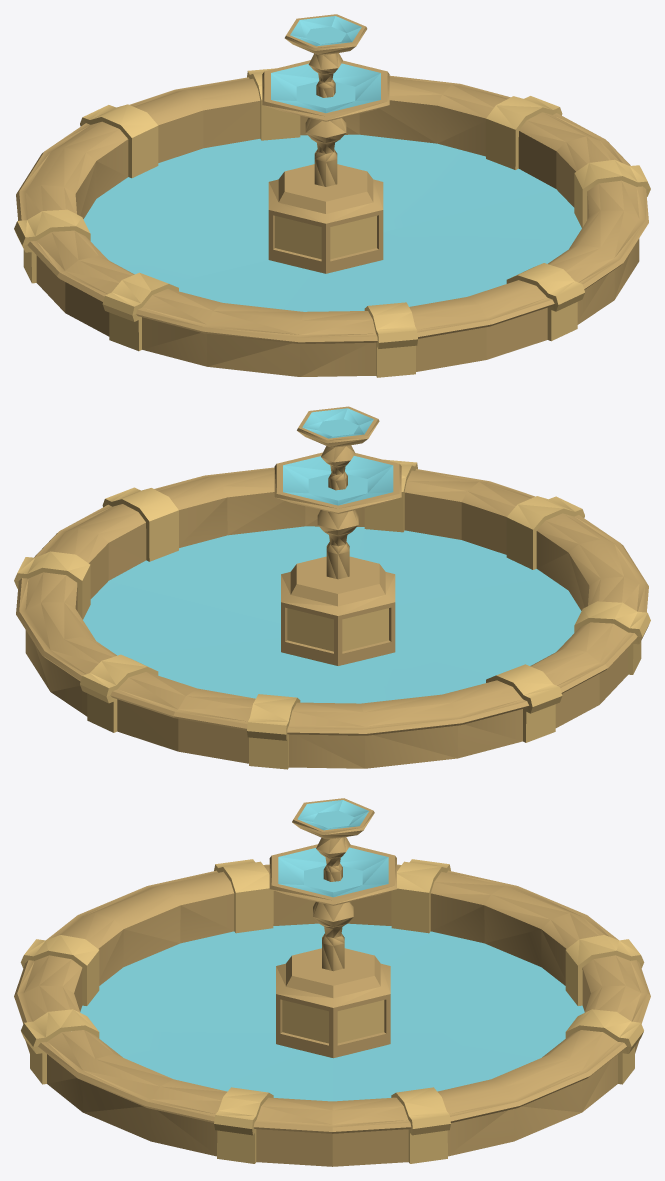
The model's file is SL_Fountain.fbx.
The picture shows the model from 3 angles, top to bottom: view 1: azimuth 30°, elevation 25°; view 2: azimuth 150°, elevation 25°; view 3: azimuth 270°, elevation 25°; orthographic projection.
Parts seen in each view (by area): view 1: SM_Fountain_02; view 2: SM_Fountain_02; view 3: SM_Fountain_02.
Part boxes in pixels (x1,y1,x2,y2): SM_Fountain_02: (14, 14, 650, 377); SM_Fountain_02: (14, 406, 650, 769); SM_Fountain_02: (14, 798, 650, 1166).
Size of the model in its own units: 2990 by 1140 by 2989.
